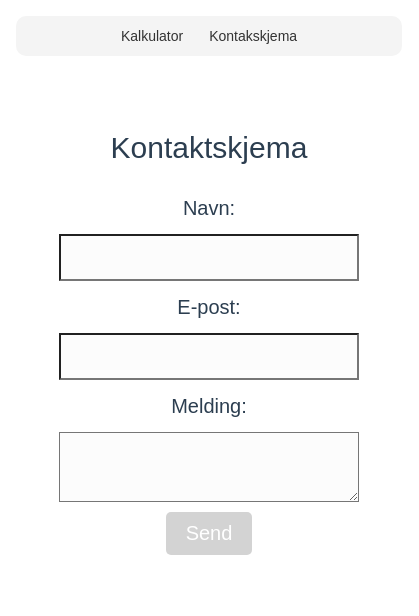
Test: ContactForm.vue › should show success message on successful form submission
Type "Test Name" into the field with id "name" at point(209, 258), box [59,234,359,281]
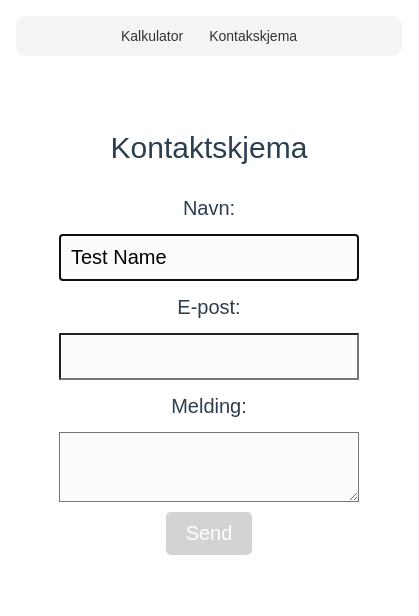
Type "test@example.com" into the field with id "email" at point(209, 357), box [59,333,359,380]
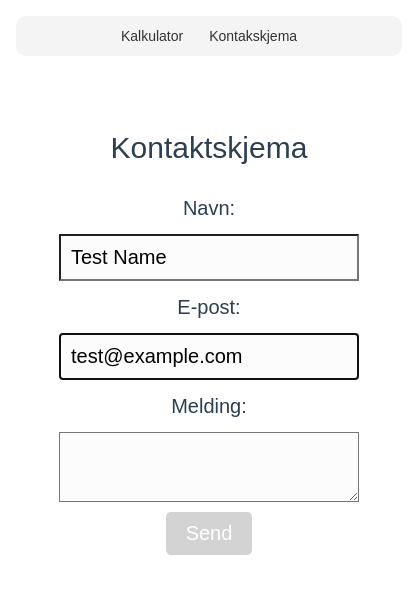
Type "Test message" into the text box with id "message" at point(209, 467), box [59,432,359,502]
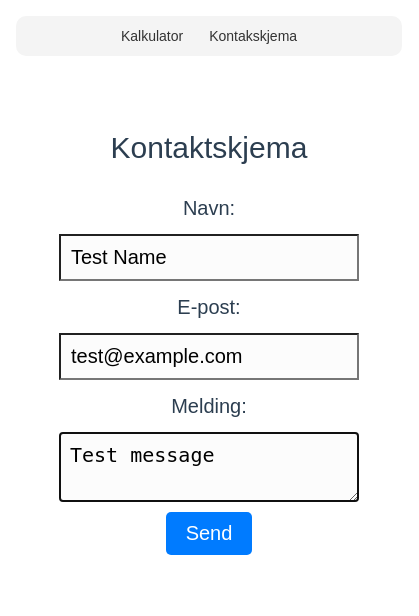
Click the button with id "submitButton" at point(210, 534), box [166,512,253,555]
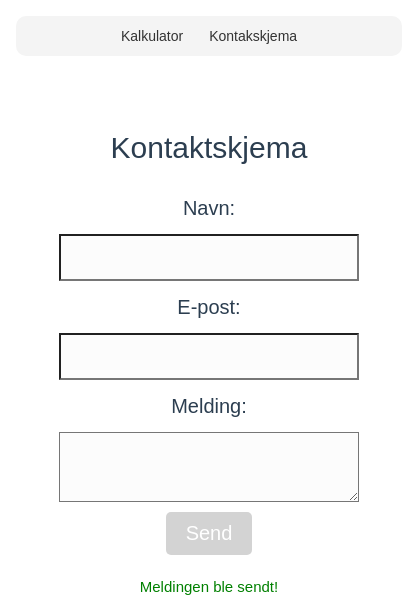
Now the text with class "success" reads "Meldingen ble sendt!", box [140,578,278,595]
